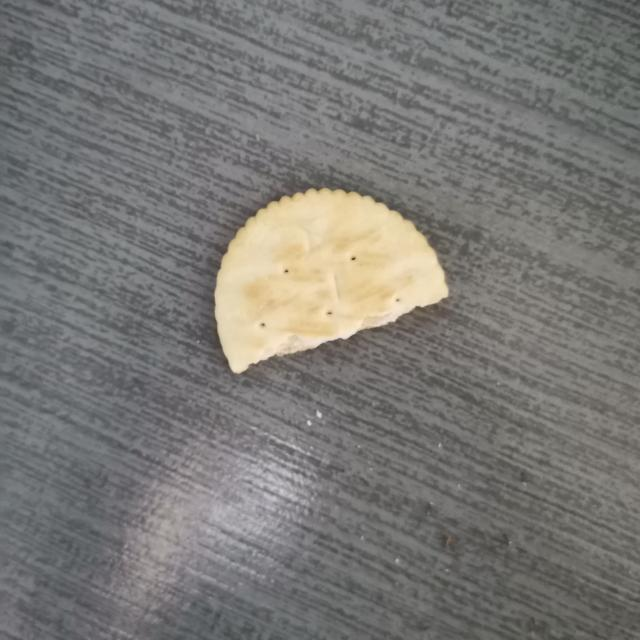Broken: (213, 186, 449, 374)
